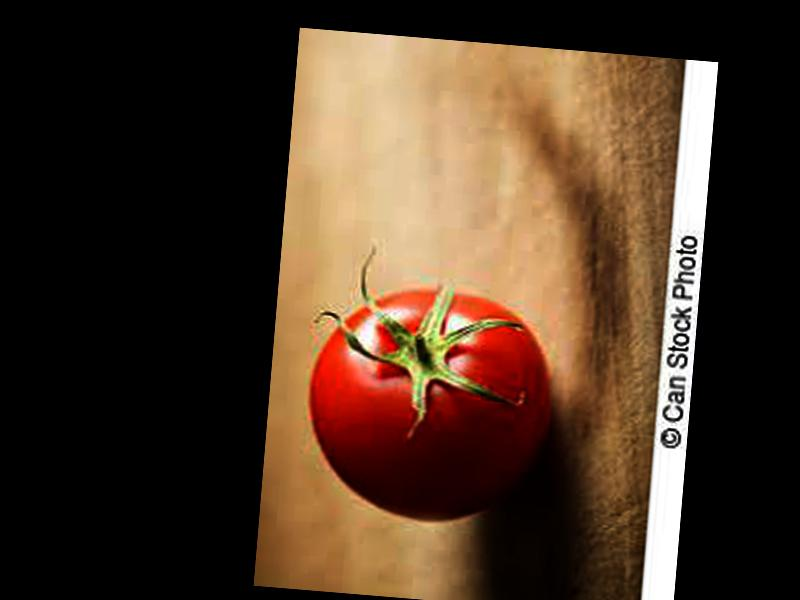Tomato: (304, 278, 558, 528)
